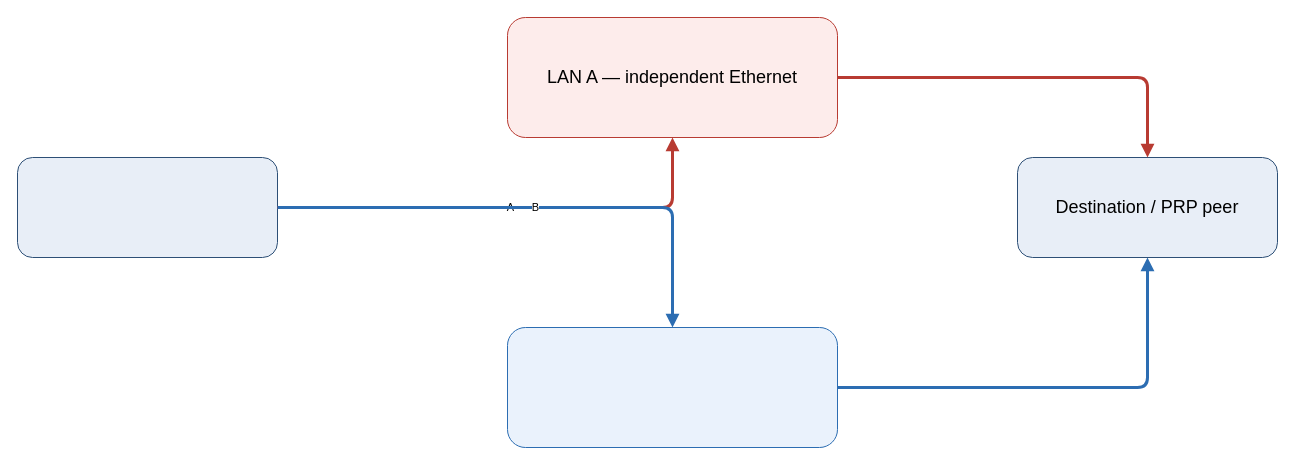
Some shapes in this 1295 by 465 pixel diagram are drawn without their labels. The centre of each missing label's shape, as x and y in pixels:
DANP-A: the point at 147,207
LAN B — independent Ethernet: the point at 672,387
